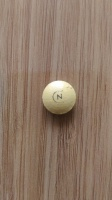Nurofen: (41, 79, 77, 116)
